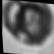correct: (1, 0, 54, 49)
